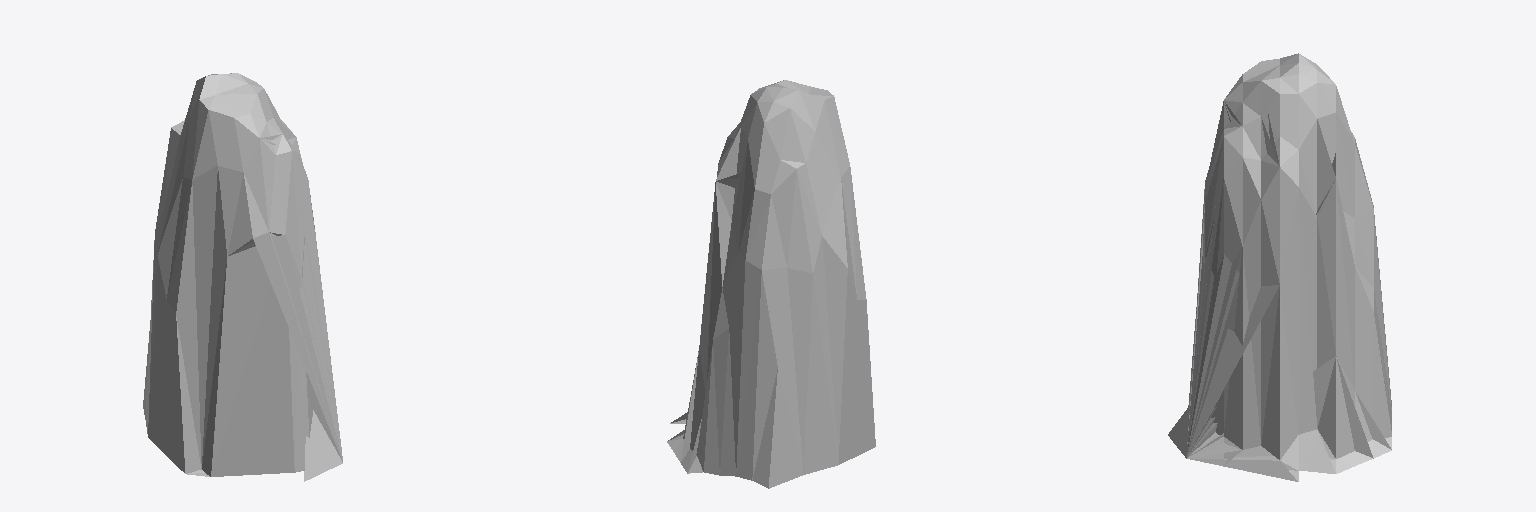
File: tree_13.obj
The picture shows the model from 3 angles: view 1: azimuth 30°, elevation 25°; view 2: azimuth 150°, elevation 25°; view 3: azimuth 270°, elevation 25°; orthographic projection.
Parts seen in each view (by area): view 1: tree_13_minus_dtm.006; view 2: tree_13_minus_dtm.006; view 3: tree_13_minus_dtm.006.
Part boxes in pixels (x1,y1,x2,y2): tree_13_minus_dtm.006: (143, 73, 342, 481); tree_13_minus_dtm.006: (667, 80, 875, 488); tree_13_minus_dtm.006: (1168, 53, 1391, 481).
Bounding box in the file's own units: 11 × 21.54 × 12.